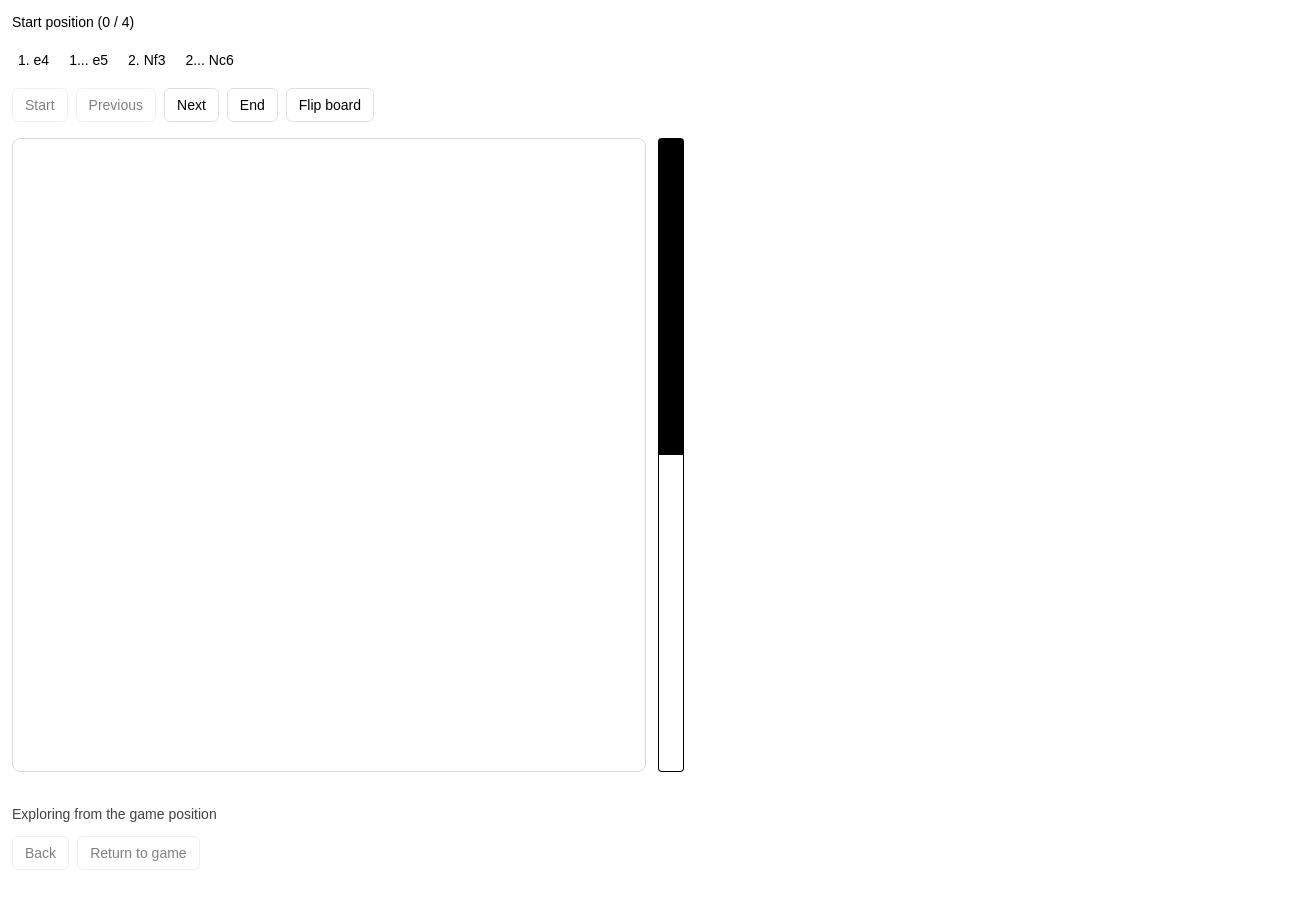
Test: ReviewBoard › returns one ply with Previous
Click the button "Next": (191, 105) [164, 88, 219, 122]
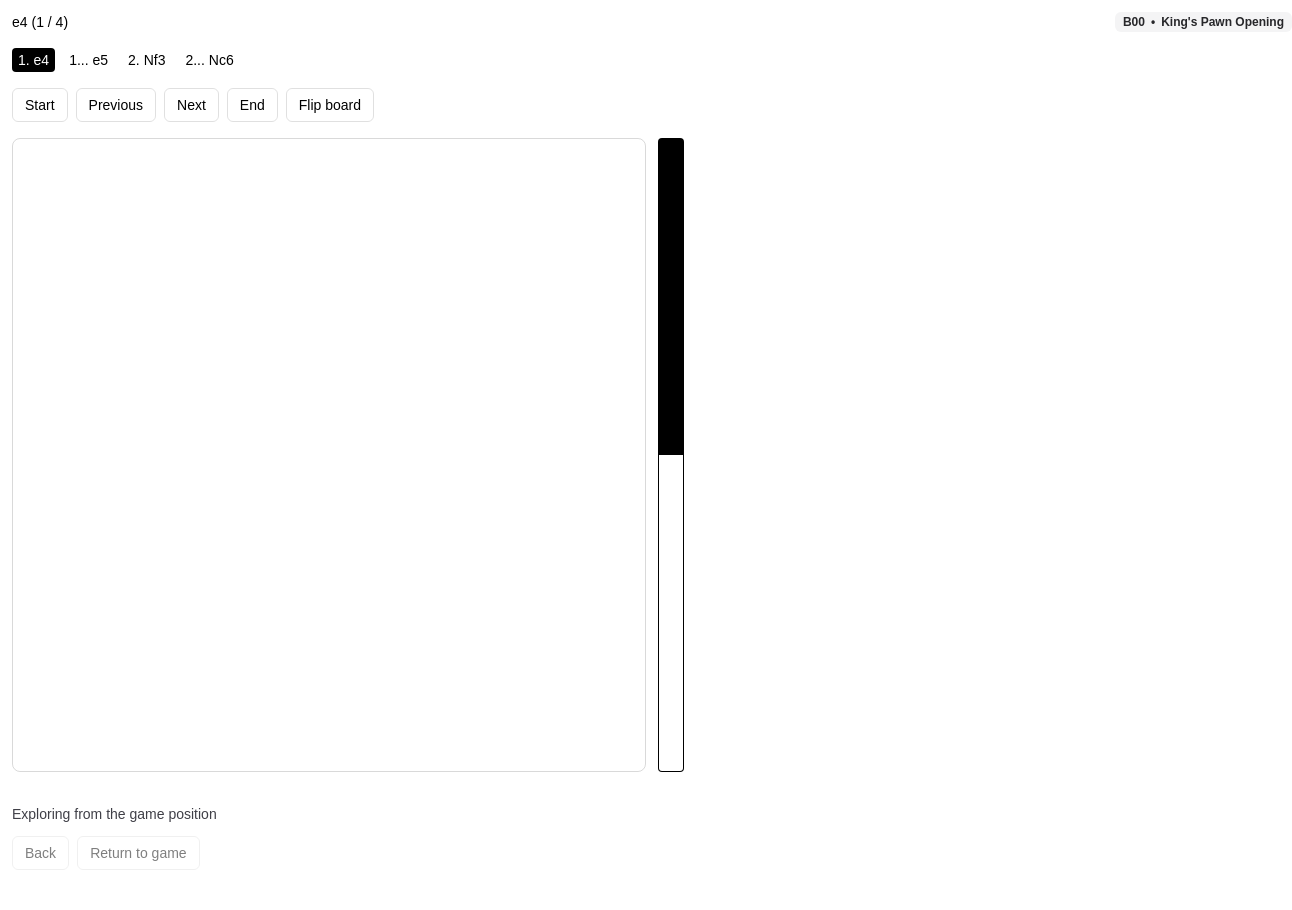
Click the button "Next": (191, 105) [164, 88, 219, 122]
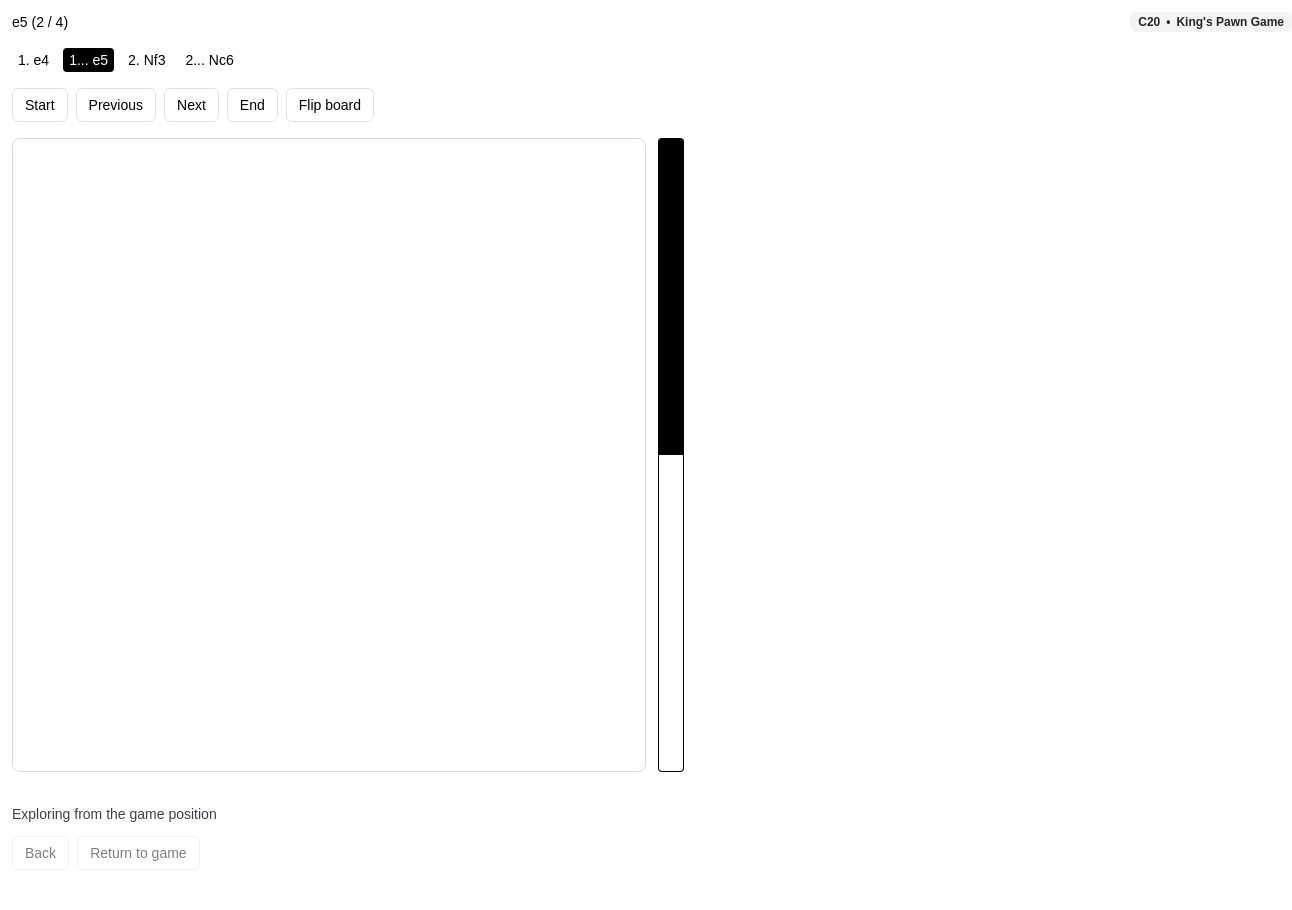
Check: the text with test id "review-ply-count" reads "(2 / 4)", box [32, 14, 68, 30]
Click the button "Previous": (116, 105) [76, 88, 156, 122]
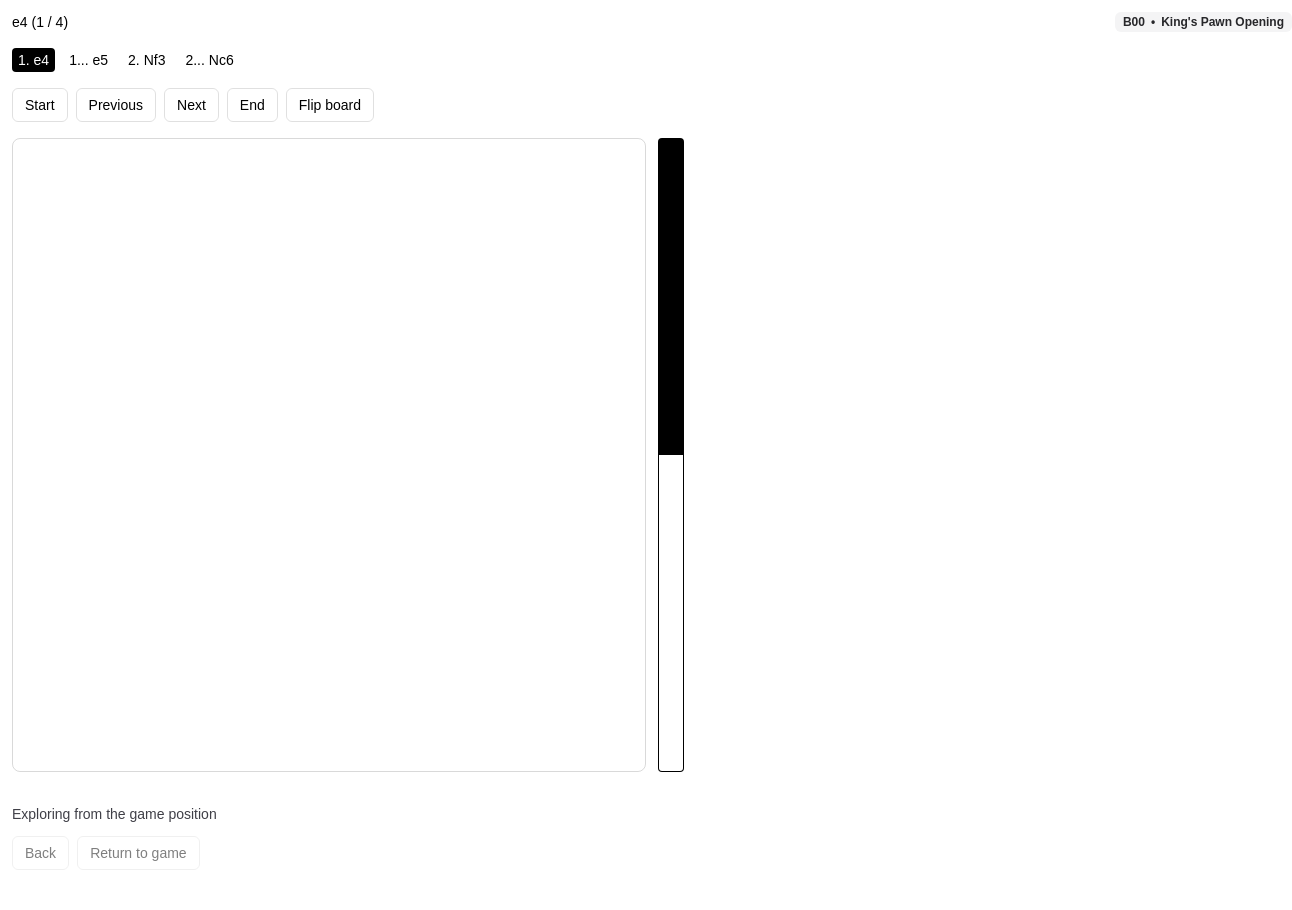
Check: the text with test id "review-ply-count" reads "(1 / 4)", box [32, 14, 68, 30]
Check: the text with test id "review-ply-status" reads "e4", box [12, 14, 28, 30]
